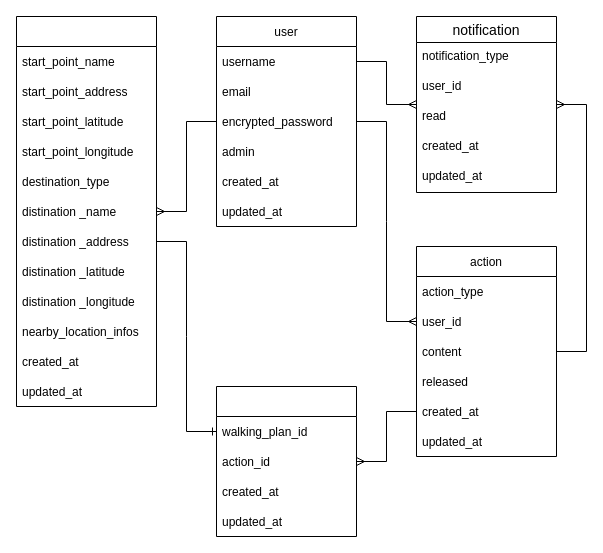
This 603x553 diagram has some shape labels left out. The shapes that lost their labels are listed below. From the top down, each one's box as (x1, y1, x2, y2) in pixels, then its label:
(16, 16, 156, 406): walking_plan
(216, 386, 356, 536): walking_plan_action
